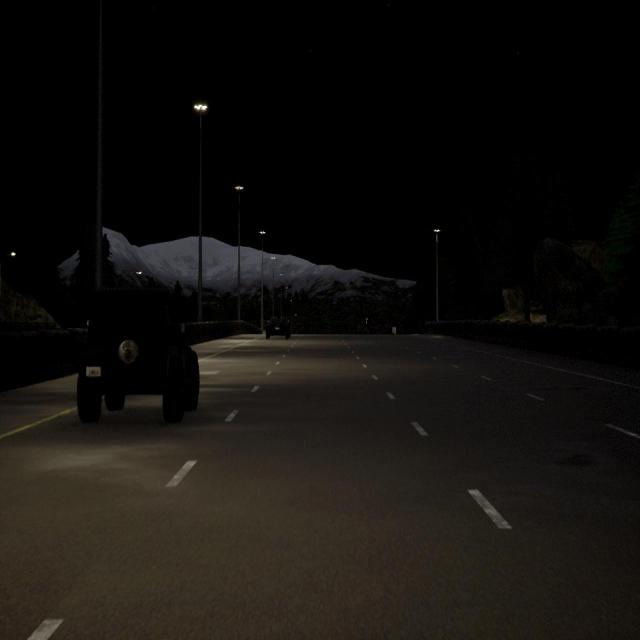Vehicle: (75, 287, 199, 424), (266, 316, 290, 340)
